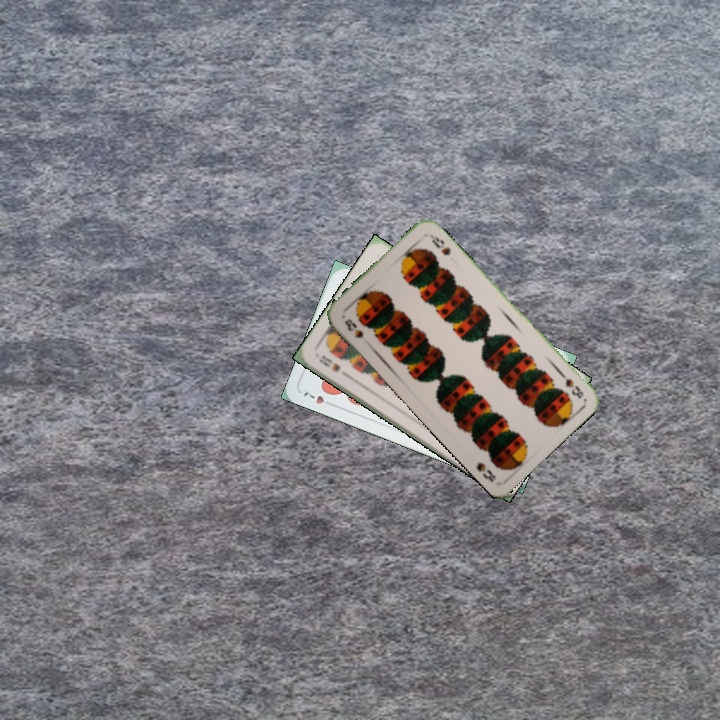H7: (299, 388, 337, 409)
S8: (555, 367, 587, 401), (340, 315, 366, 341), (315, 351, 343, 375)
